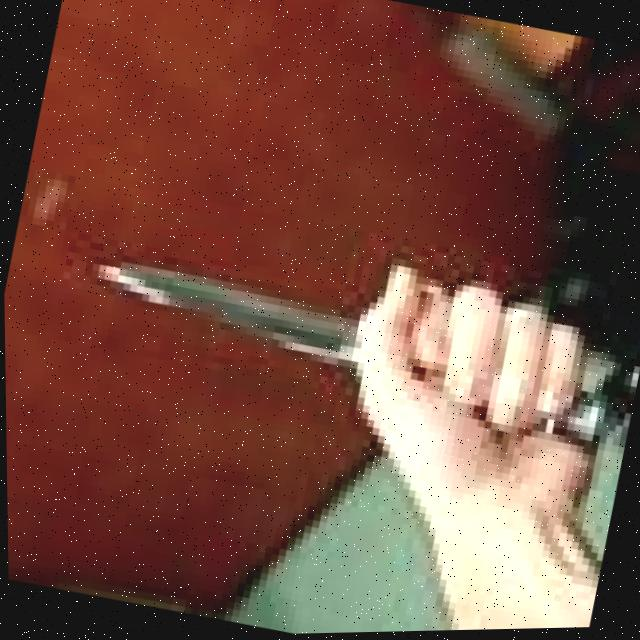knife: (79, 239, 365, 383)
